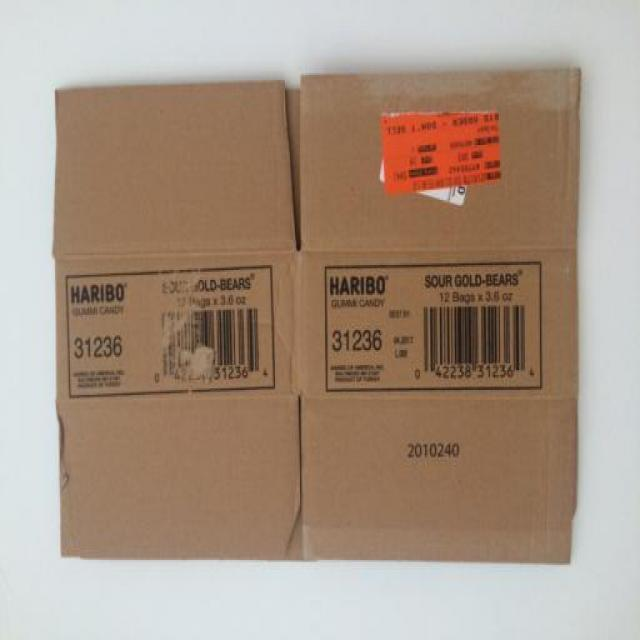cardboard: (31, 49, 597, 593)
